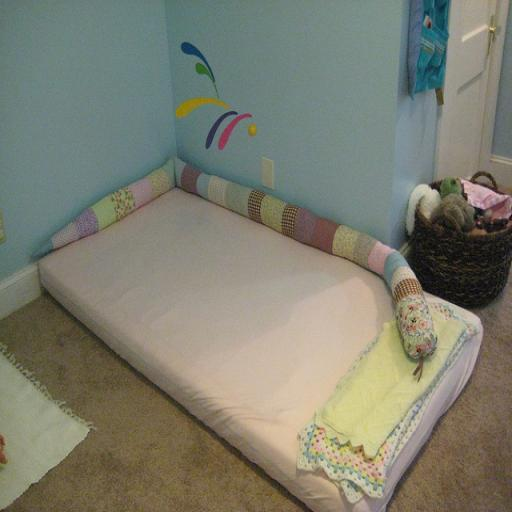bed: (41, 133, 512, 506)
